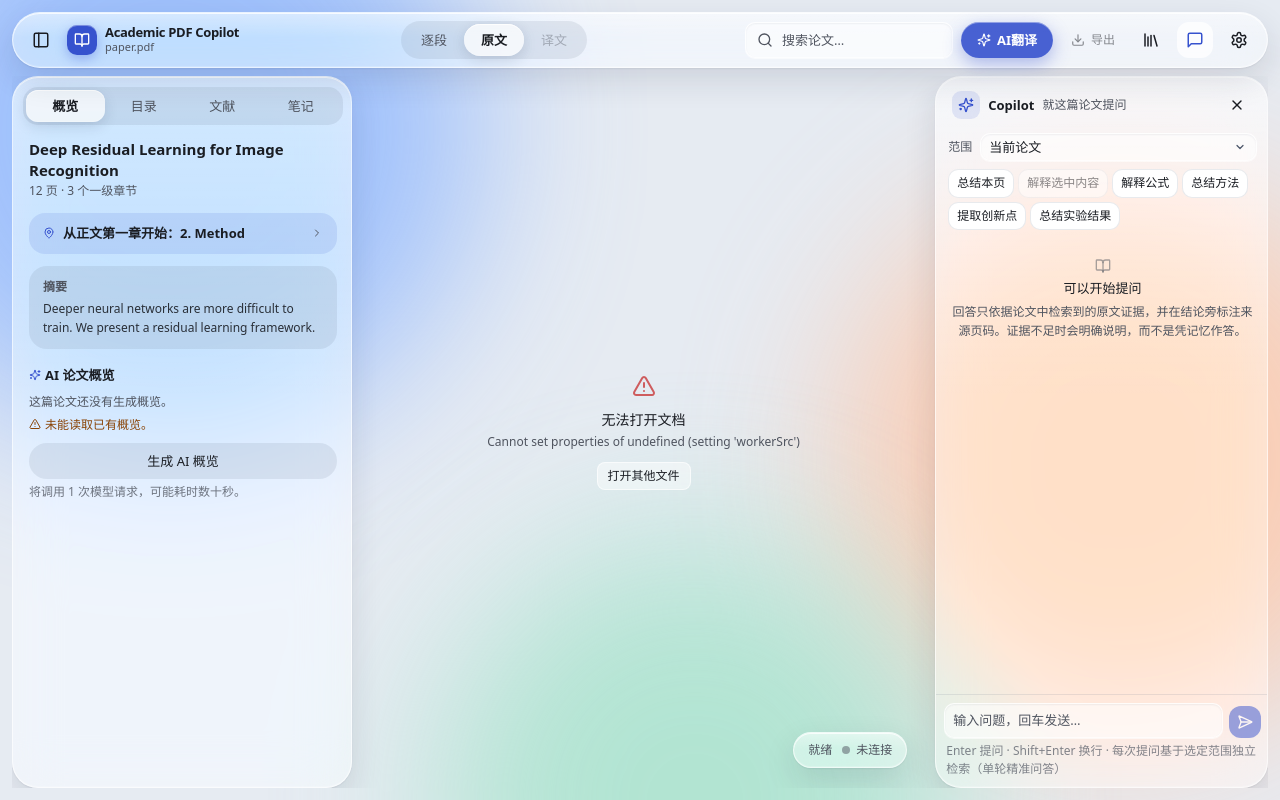
DS-QA-015 · generating › keeps the instant entry usable when generation fails
Check: the text "这篇论文还没有生成概览。" is shown, box [29,393,173,410]
Step 1. Click the button with test id "overview-generate" → (183, 461), box [29,443,337,479]
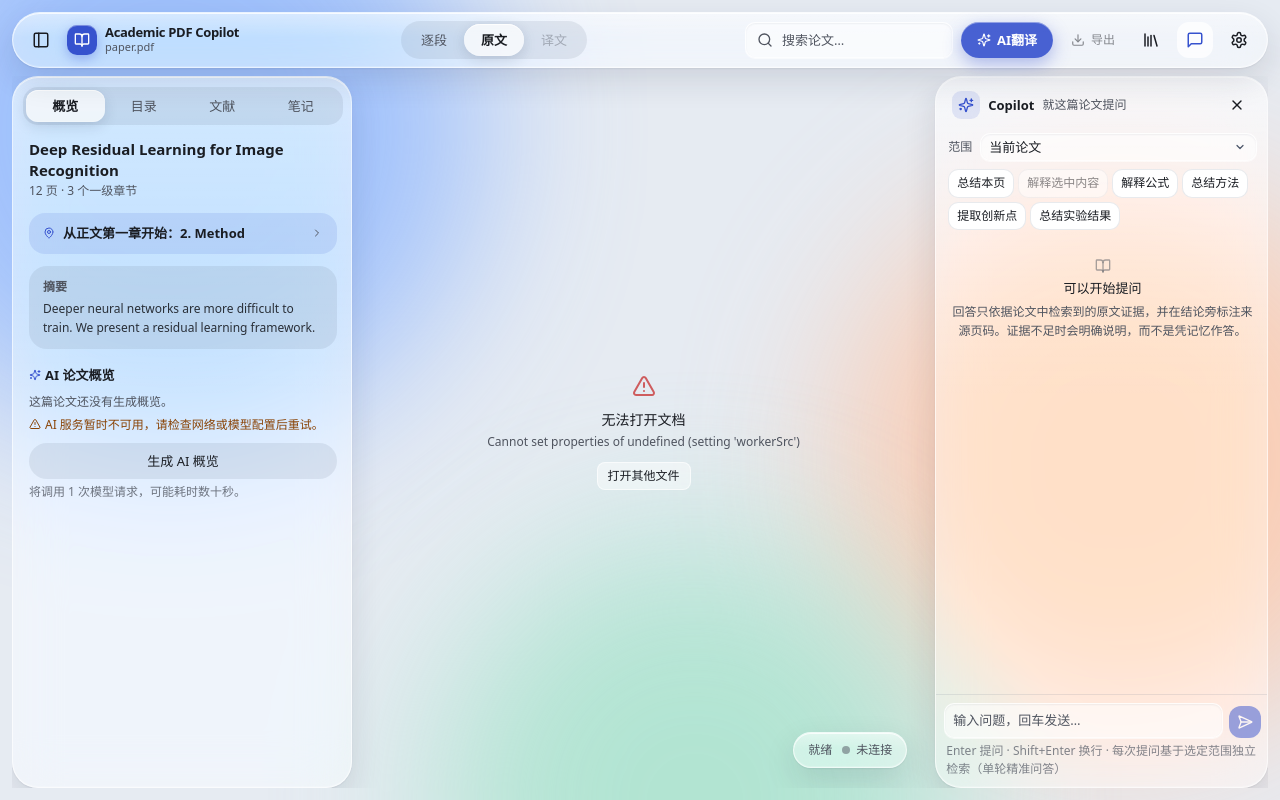
Check: the message "AI 服务暂时不可用，请检查网络或模型配置后重试。" is shown, box [29,416,337,435]
Check: the message with test id "overview-error" shows "AI 服务暂时不可用", box [45,416,324,433]
